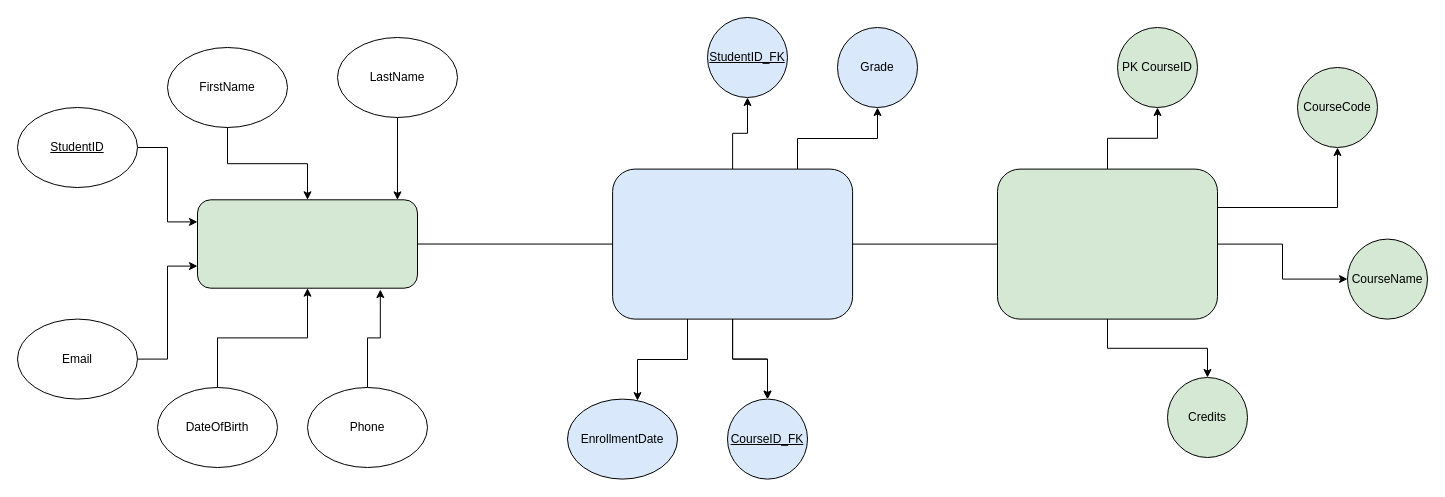
Some shapes in this 1445 by 497 pixel diagram are drawn without their labels. The shapes that lost their labels are listed below. From the top down, each one's centre as x and y in pixels, then its label:
At point (307, 243): "STUDENT".
At point (732, 243): "ENROLLMENT".
At point (1107, 243): "COURSE".
